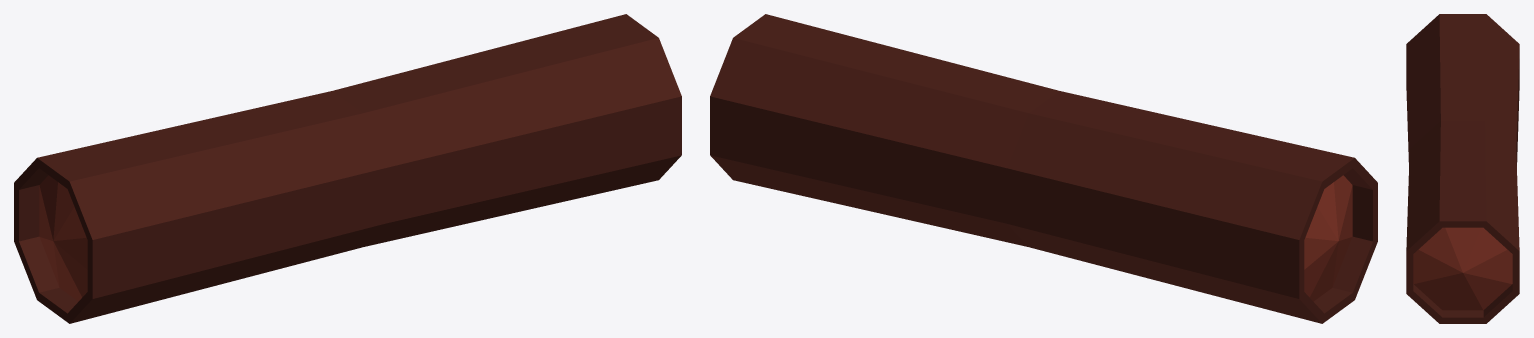
Rendered from Log_1_Red.fbx.
3 renders of one model, left to right at view 1: azimuth 30°, elevation 25°; view 2: azimuth 150°, elevation 25°; view 3: azimuth 270°, elevation 25°, orthographic. The views are drawn at different scales.
Parts seen in each view (by area): view 1: Log_1_Red; view 2: Log_1_Red; view 3: Log_1_Red.
Boxes of the visible parts, box(x1,y1,x2,y2) form: Log_1_Red: box(14, 14, 681, 323); Log_1_Red: box(710, 14, 1377, 323); Log_1_Red: box(1406, 14, 1519, 323).
Size of the model in its own units: 200 by 46.18 by 46.18.
